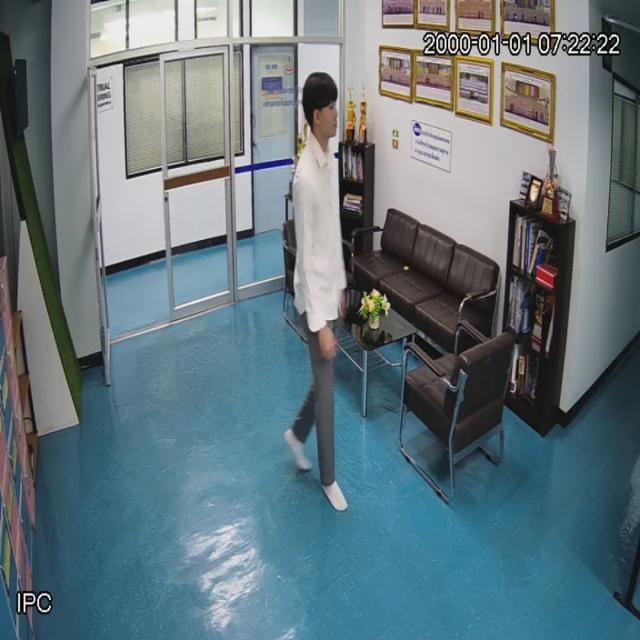normal: (287, 71, 346, 495)
